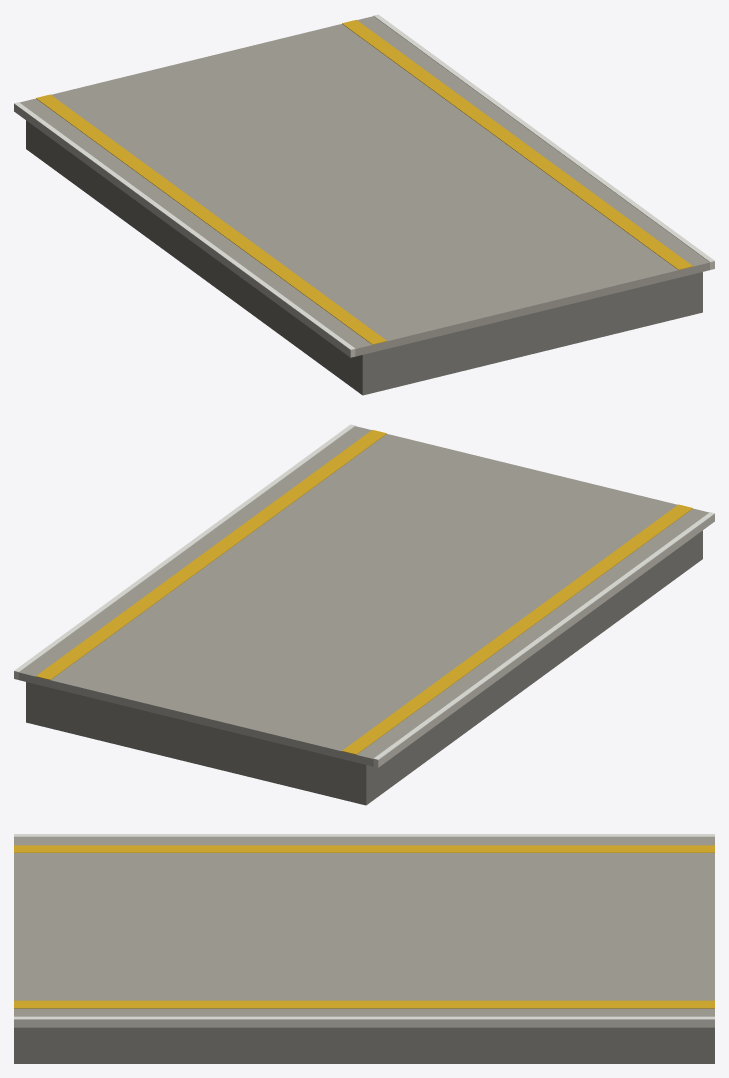
Rendered from platform_slab_island.glb.
3 renders of one model, top to bottom at view 1: azimuth 30°, elevation 25°; view 2: azimuth 150°, elevation 25°; view 3: azimuth 270°, elevation 25°, orthographic. The views are drawn at different scales.
Visible parts, largest first — view 1: PlatformSlabIsland; view 2: PlatformSlabIsland; view 3: PlatformSlabIsland.
Part boxes in pixels (<box>): PlatformSlabIsland: <box>14,14,714,395</box>; PlatformSlabIsland: <box>14,424,714,805</box>; PlatformSlabIsland: <box>14,834,714,1063</box>.
Size of what is drawn, in the model's own units: 7.5 by 0.96 by 12.
